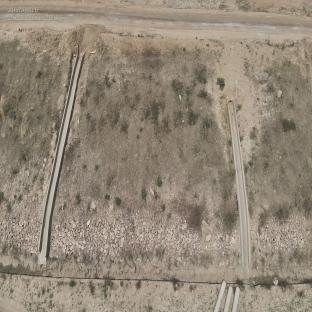rock_toe: (50, 213, 238, 265), (251, 216, 311, 265), (0, 213, 41, 256)
slope_drain: (38, 45, 85, 264), (227, 98, 251, 278)
toe_drain: (0, 260, 312, 287)
